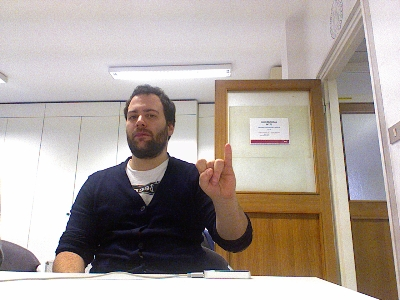小指: (194, 143, 237, 199)
